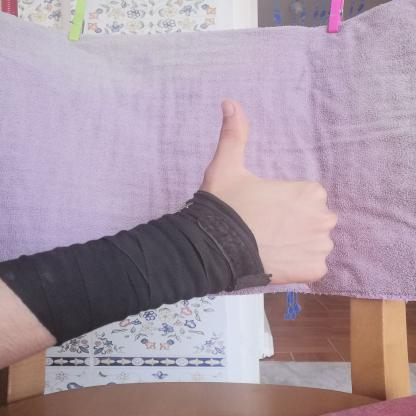ALIF: (175, 86, 354, 307)
